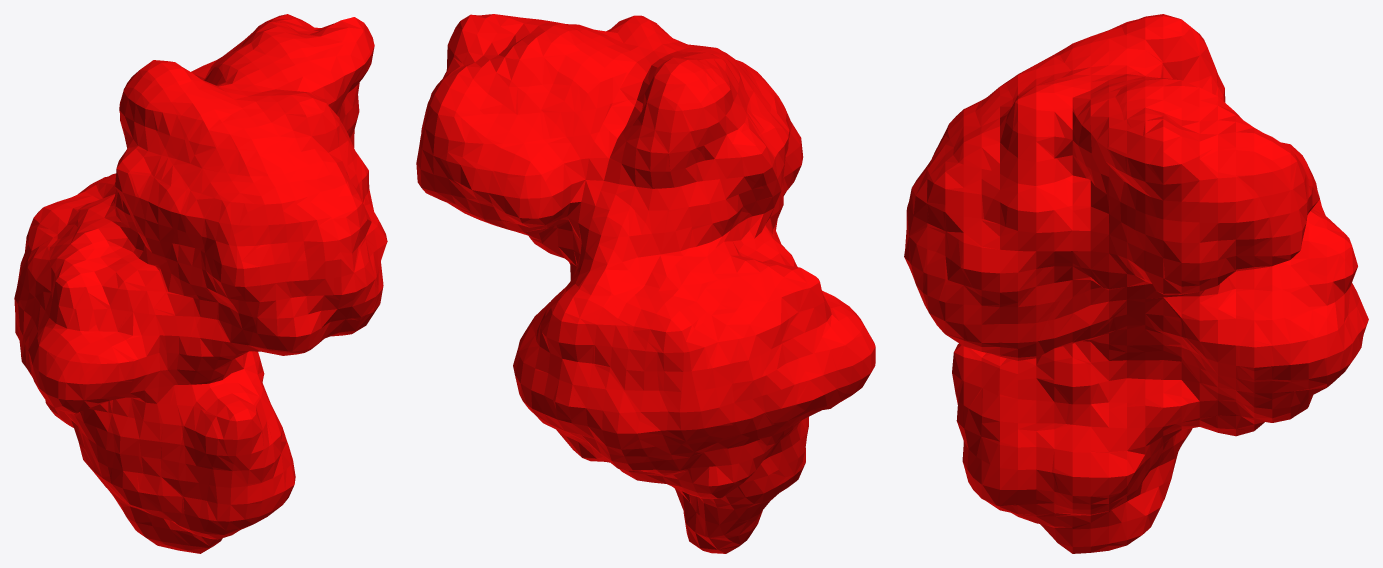
The model's file is nrdI_coarse.dae.
The picture shows the model from 3 angles, left to right: view 1: azimuth 30°, elevation 25°; view 2: azimuth 150°, elevation 25°; view 3: azimuth 270°, elevation 25°; orthographic projection. The views are drawn at different scales.
Parts seen in each view (by area): view 1: nrdI; view 2: nrdI; view 3: nrdI.
Part boxes in pixels (bbox=[...]): nrdI: bbox=[14, 14, 387, 553]; nrdI: bbox=[416, 14, 875, 553]; nrdI: bbox=[904, 14, 1368, 553].
Size of the model in its own units: 78.45 by 97.07 by 76.18.
